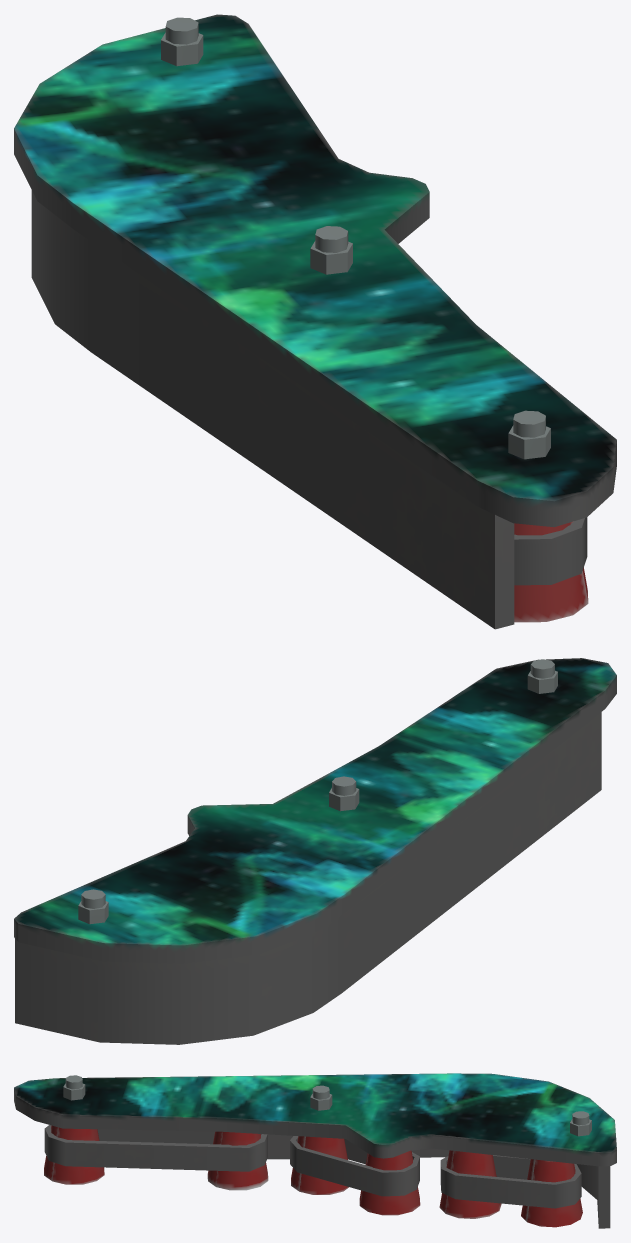
The model's file is MediumBase.glb.
3 views of the same model, one above another, from view 1: azimuth 30°, elevation 25°; view 2: azimuth 150°, elevation 25°; view 3: azimuth 270°, elevation 25° (orthographic). The views are drawn at different scales.
Visible parts, largest first — view 1: CornerBumper.001; view 2: CornerBumper.001; view 3: CornerBumper.001.
Boxes of the visible parts, x1=… form: CornerBumper.001: x1=14, y1=14, x2=616, y2=629; CornerBumper.001: x1=14, y1=658, x2=616, y2=1044; CornerBumper.001: x1=14, y1=1073, x2=616, y2=1228.
Bounding box in the file's own units: 0.0946 × 0.0516 × 0.3032.
1 material, 1 textured.
